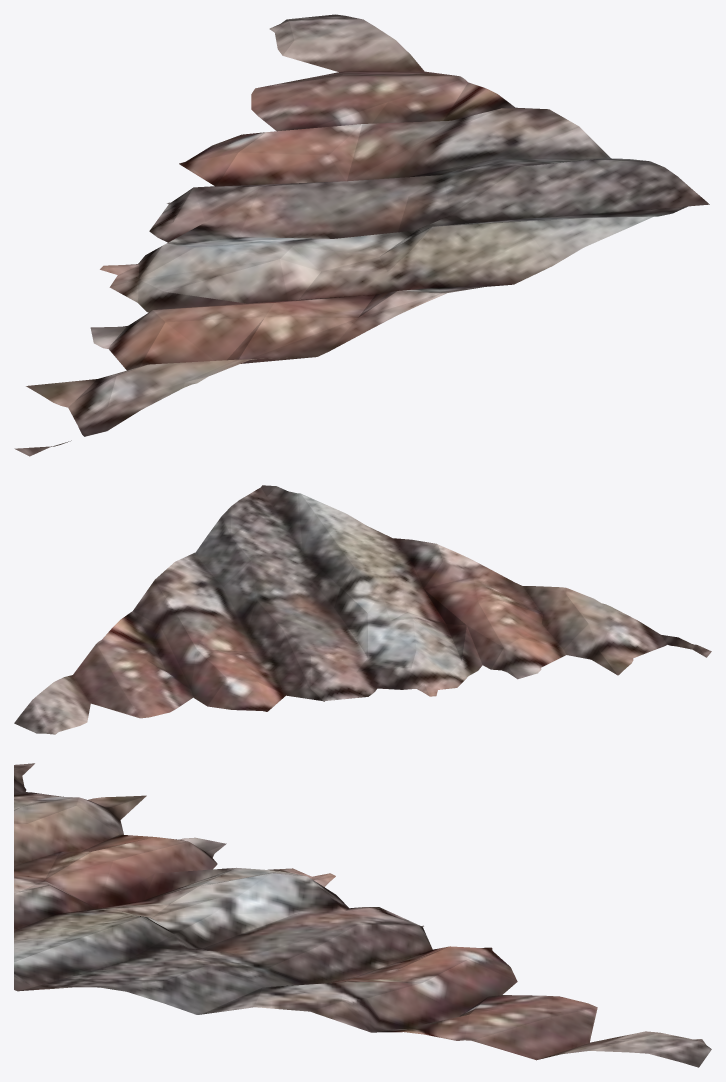
The picture shows the model from 3 angles, top to bottom: view 1: azimuth 30°, elevation 25°; view 2: azimuth 150°, elevation 25°; view 3: azimuth 270°, elevation 25°; orthographic projection. The views are drawn at different scales.
Size of the model in its own units: 1.08 by 0.135 by 1.05.
Materials: 1 (1 with a texture image).
